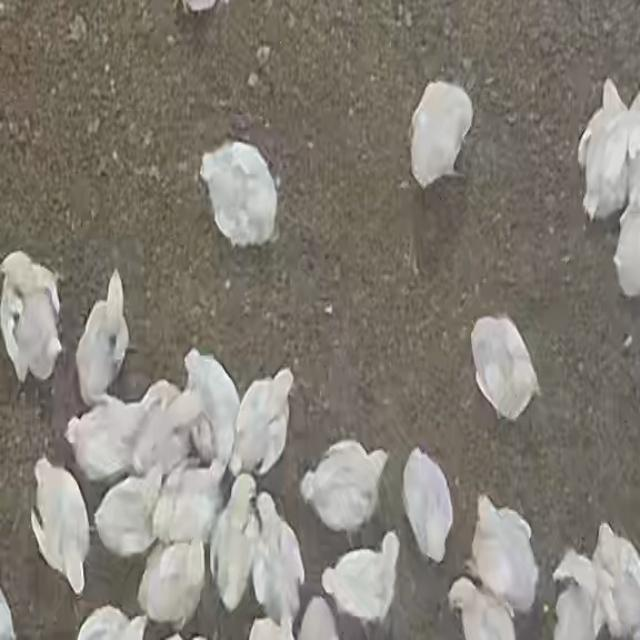chicken: (198, 141, 282, 251), (67, 384, 161, 479), (299, 439, 388, 537), (31, 458, 94, 596), (0, 250, 61, 380), (582, 76, 636, 220), (469, 314, 540, 422), (75, 270, 132, 404), (322, 533, 401, 628), (474, 496, 537, 613), (205, 477, 259, 610), (409, 81, 474, 190), (231, 368, 294, 476), (402, 444, 456, 567), (252, 492, 302, 622), (157, 462, 230, 544), (95, 469, 163, 557), (139, 542, 207, 626), (136, 390, 202, 476), (592, 524, 640, 640), (182, 353, 232, 461), (550, 554, 603, 640), (446, 576, 514, 640), (613, 201, 640, 300), (74, 606, 146, 640)
